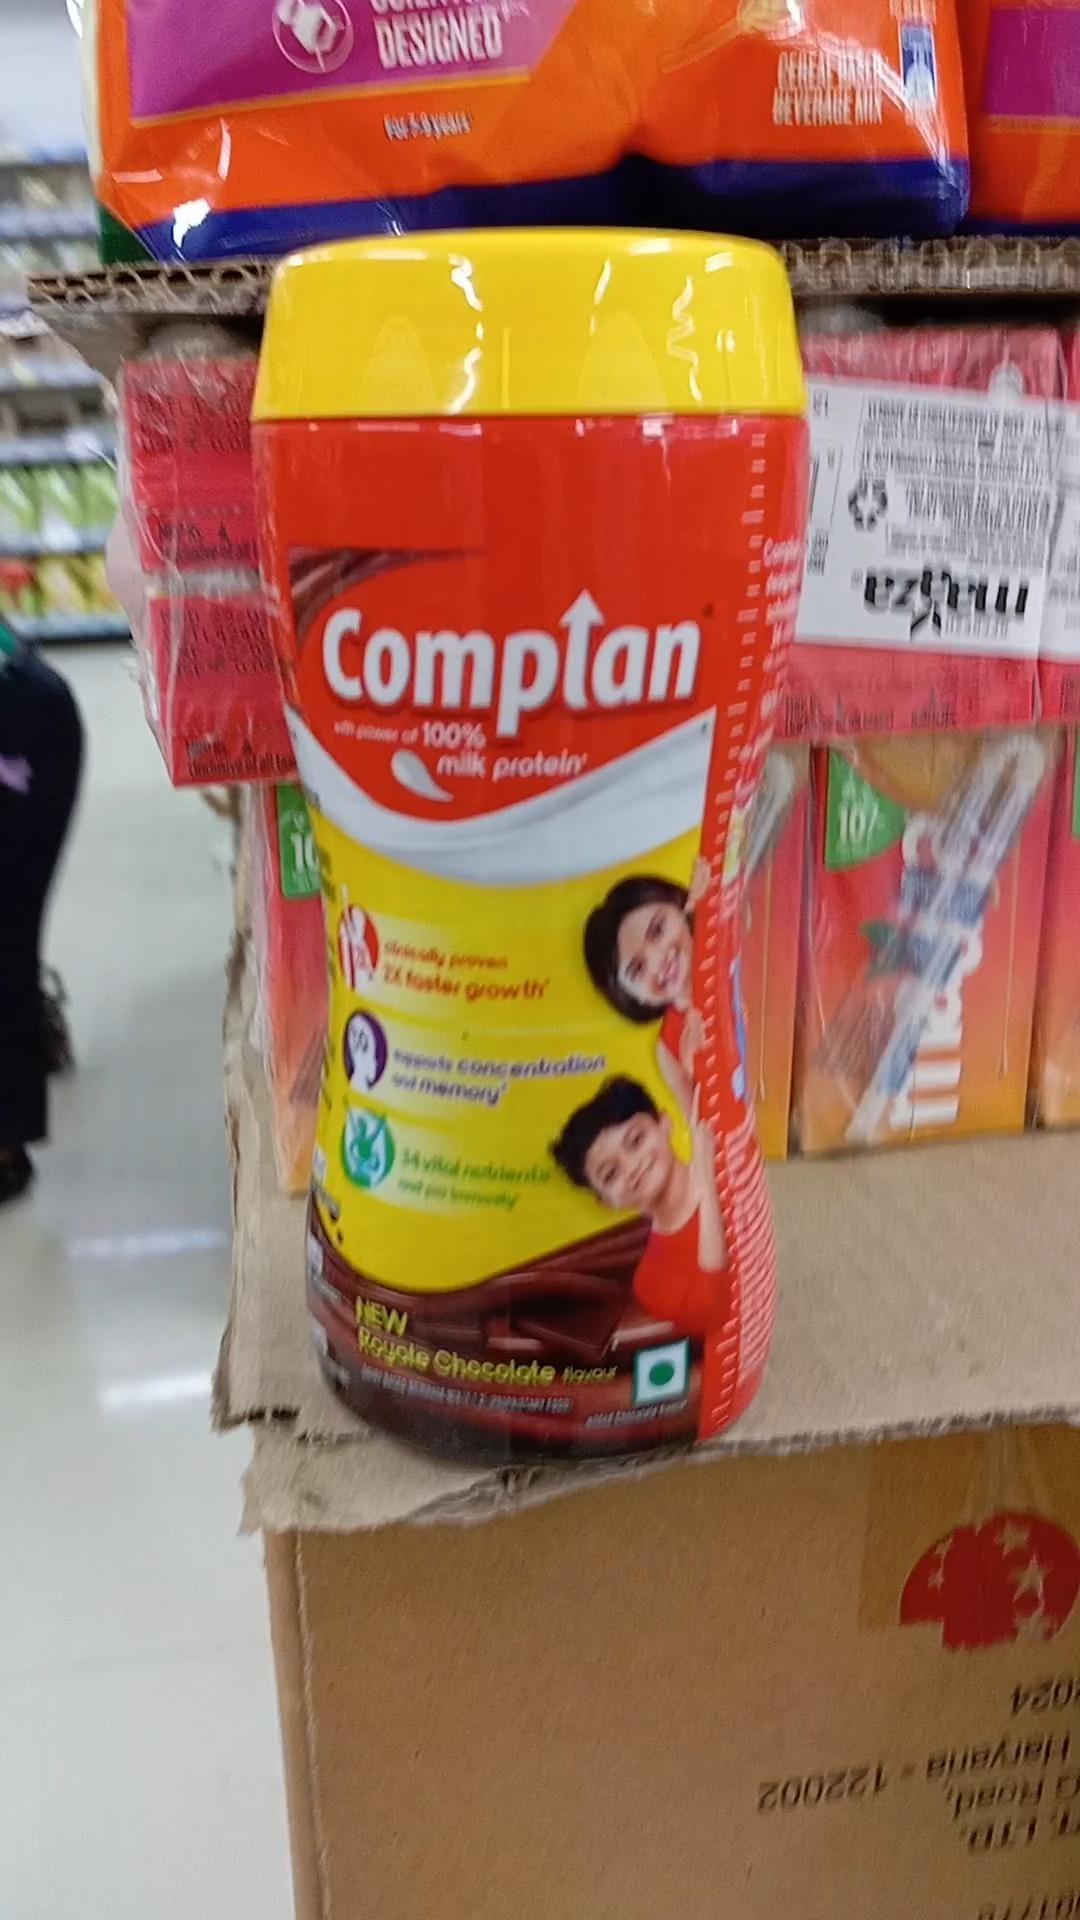COMPLAN_CHOCOLATE_200_GMS_JAR: (251, 229, 740, 1451)
